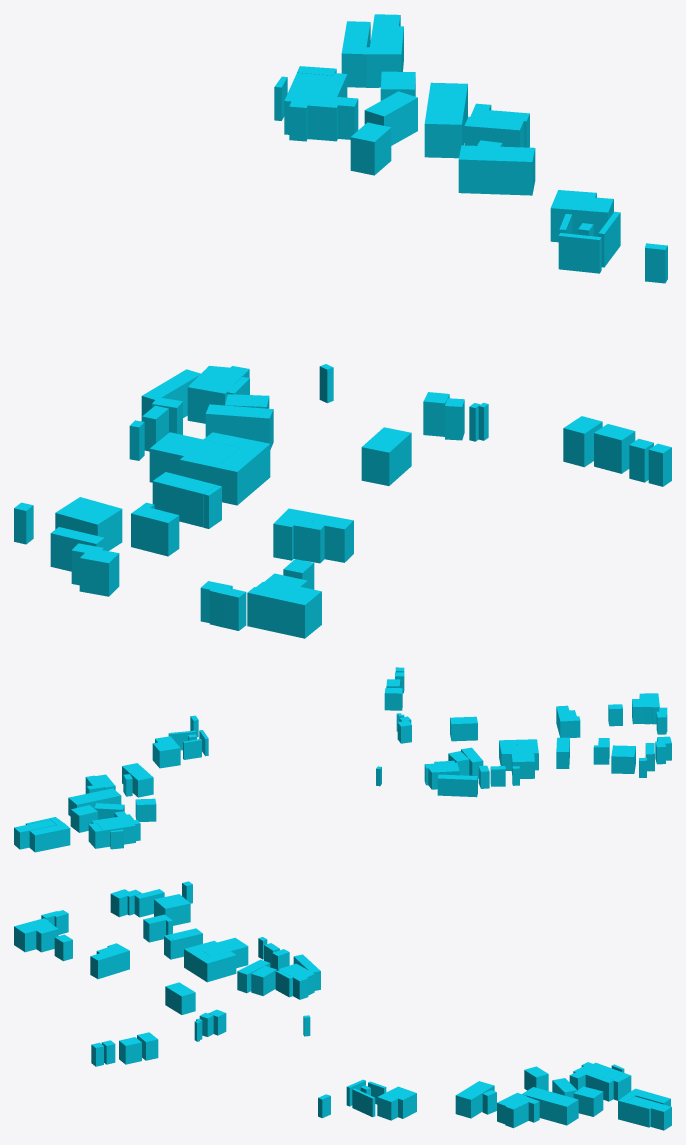
File: sChoHouse.glb
3 renders of one model, top to bottom at view 1: azimuth 30°, elevation 25°; view 2: azimuth 150°, elevation 25°; view 3: azimuth 270°, elevation 25°, orthographic. The views are drawn at different scales.
Visible parts, largest first — view 1: IfcBuildingElementProxy/Unnamed.059, IfcBuildingElementProxy/Unnamed.034, IfcBuildingElementProxy/Unnamed.013, IfcBuildingElementProxy/Unnamed.004, IfcBuildingElementProxy/Unnamed.048, IfcBuildingElementProxy/Unnamed.060, IfcBuildingElementProxy/Unnamed.031, IfcBuildingElementProxy/Unnamed.036, IfcBuildingElementProxy/Unnamed.029, IfcBuildingElementProxy/Unnamed.032, IfcBuildingElementProxy/Unnamed.017, IfcBuildingElementProxy/Unnamed.015 (+21 smaller); view 2: IfcBuildingElementProxy/Unnamed.028, IfcBuildingElementProxy/Unnamed.059, IfcBuildingElementProxy/Unnamed.013, IfcBuildingElementProxy/Unnamed.031, IfcBuildingElementProxy/Unnamed.065, IfcBuildingElementProxy/Unnamed.001, IfcBuildingElementProxy/Unnamed.036, IfcBuildingElementProxy/Unnamed.048, IfcBuildingElementProxy/Unnamed.034, IfcBuildingElementProxy/Unnamed.004, IfcBuildingElementProxy/Unnamed.014, IfcBuildingElementProxy/Unnamed.060 (+16 smaller); view 3: IfcBuildingElementProxy/Unnamed.034, IfcBuildingElementProxy/Unnamed.013, IfcBuildingElementProxy/Unnamed.059, IfcBuildingElementProxy/Unnamed.036, IfcBuildingElementProxy/Unnamed.048, IfcBuildingElementProxy/Unnamed.061, IfcBuildingElementProxy/Unnamed.031, IfcBuildingElementProxy/Unnamed.014, IfcBuildingElementProxy/Unnamed.058, IfcBuildingElementProxy/Unnamed.029, IfcBuildingElementProxy/Unnamed.001, IfcBuildingElementProxy/Unnamed.049 (+16 smaller).
Part boxes in pixels (bbox=[...]): IfcBuildingElementProxy/Unnamed.059: bbox=[247, 573, 321, 638]; IfcBuildingElementProxy/Unnamed.034: bbox=[179, 432, 270, 505]; IfcBuildingElementProxy/Unnamed.013: bbox=[424, 82, 467, 158]; IfcBuildingElementProxy/Unnamed.004: bbox=[458, 145, 511, 194]; IfcBuildingElementProxy/Unnamed.048: bbox=[361, 427, 411, 485]; IfcBuildingElementProxy/Unnamed.060: bbox=[273, 508, 324, 563]; IfcBuildingElementProxy/Unnamed.031: bbox=[149, 432, 239, 482]; IfcBuildingElementProxy/Unnamed.036: bbox=[55, 497, 122, 550]; IfcBuildingElementProxy/Unnamed.029: bbox=[152, 472, 216, 527]; IfcBuildingElementProxy/Unnamed.032: bbox=[131, 505, 179, 556]; IfcBuildingElementProxy/Unnamed.017: bbox=[350, 122, 391, 175]; IfcBuildingElementProxy/Unnamed.015: bbox=[364, 91, 417, 145]; IfcBuildingElementProxy/Unnamed.028: bbox=[437, 774, 477, 797]; IfcBuildingElementProxy/Unnamed.059: bbox=[632, 693, 659, 724]; IfcBuildingElementProxy/Unnamed.013: bbox=[68, 788, 121, 816]; IfcBuildingElementProxy/Unnamed.031: bbox=[510, 744, 534, 778]; IfcBuildingElementProxy/Unnamed.065: bbox=[29, 825, 60, 852]; IfcBuildingElementProxy/Unnamed.001: bbox=[152, 740, 180, 768]; IfcBuildingElementProxy/Unnamed.036: bbox=[611, 745, 635, 773]; IfcBuildingElementProxy/Unnamed.048: bbox=[450, 716, 477, 741]; IfcBuildingElementProxy/Unnamed.034: bbox=[499, 739, 538, 770]; IfcBuildingElementProxy/Unnamed.004: bbox=[127, 767, 153, 797]; IfcBuildingElementProxy/Unnamed.014: bbox=[70, 805, 97, 832]; IfcBuildingElementProxy/Unnamed.060: bbox=[558, 710, 580, 737]; IfcBuildingElementProxy/Unnamed.034: bbox=[184, 940, 236, 982]; IfcBuildingElementProxy/Unnamed.013: bbox=[522, 1087, 578, 1125]; IfcBuildingElementProxy/Unnamed.059: bbox=[14, 918, 58, 952]; IfcBuildingElementProxy/Unnamed.036: bbox=[154, 894, 190, 925]; IfcBuildingElementProxy/Unnamed.048: bbox=[165, 982, 195, 1014]; IfcBuildingElementProxy/Unnamed.061: bbox=[618, 1093, 650, 1127]; IfcBuildingElementProxy/Unnamed.031: bbox=[198, 937, 248, 968]; IfcBuildingElementProxy/Unnamed.014: bbox=[573, 1086, 603, 1116]; IfcBuildingElementProxy/Unnamed.058: bbox=[627, 1096, 671, 1130]; IfcBuildingElementProxy/Unnamed.029: bbox=[167, 928, 202, 958]; IfcBuildingElementProxy/Unnamed.001: bbox=[384, 1086, 416, 1118]; IfcBuildingElementProxy/Unnamed.049: bbox=[90, 951, 114, 979].
Size of the model in its own units: 253 by 21.4 by 319.
